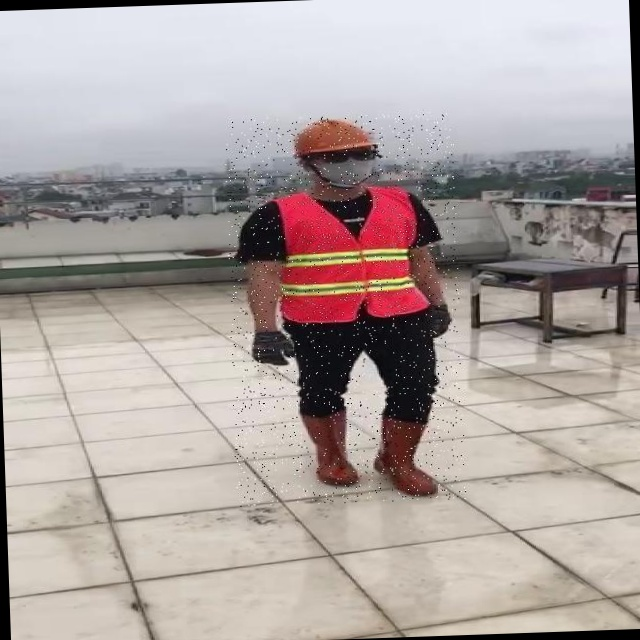boots: (368, 415, 434, 499), (292, 409, 359, 488)
gloves: (420, 296, 468, 352), (246, 309, 286, 375)
helmet: (291, 116, 387, 157)
vest: (271, 191, 428, 320)
